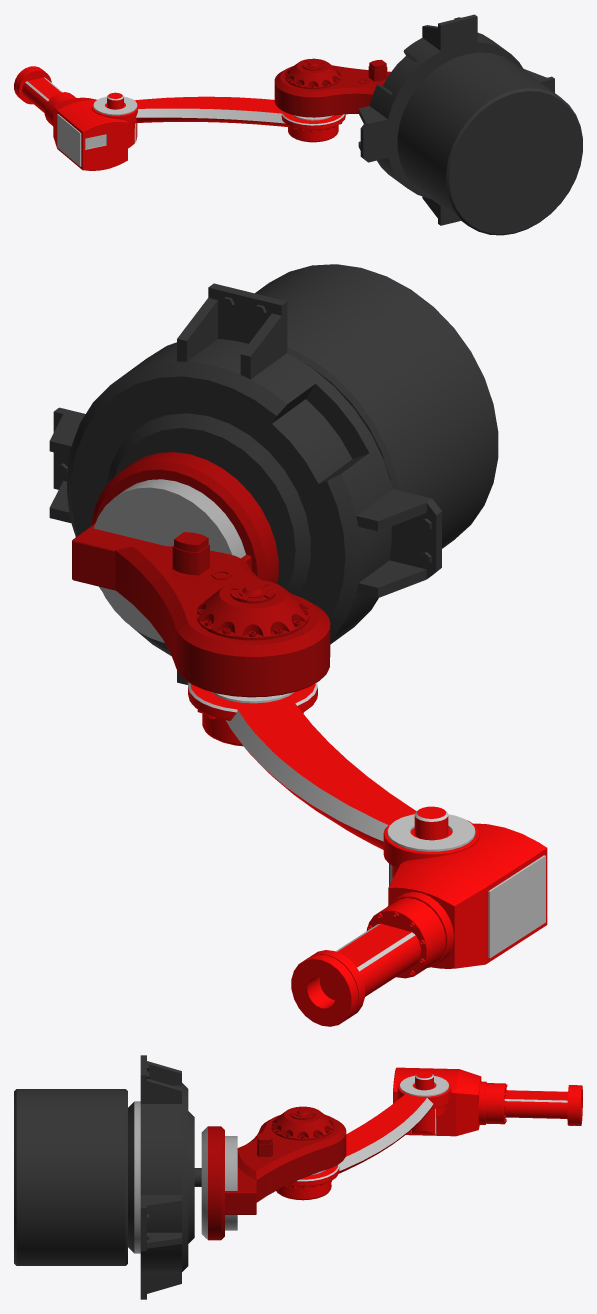
Rendered from 检测机械臂.FBX.
The picture shows the model from 3 angles, top to bottom: view 1: azimuth 30°, elevation 25°; view 2: azimuth 150°, elevation 25°; view 3: azimuth 270°, elevation 25°; orthographic projection. The views are drawn at different scales.
Visible parts, largest first — view 1: Part1, Part4, Part3, Part2; view 2: Part1, Part2, Part4, Part3; view 3: Part1, Part2, Part4, Part3.
Part boxes in pixels (box(x1,y1,x2,y2)): Part1: box(358, 14, 582, 235); Part4: box(14, 66, 138, 170); Part3: box(105, 92, 345, 142); Part2: box(274, 58, 390, 117); Part1: box(49, 264, 498, 684); Part2: box(72, 452, 330, 697); Part4: box(291, 814, 547, 1026); Part3: box(188, 682, 452, 877); Part1: box(14, 1055, 201, 1299); Part2: box(201, 1106, 346, 1240); Part4: box(393, 1067, 582, 1136); Part3: box(276, 1071, 446, 1200).
Bounding box in the file's own units: 28.84 × 15.37 × 35.33.
